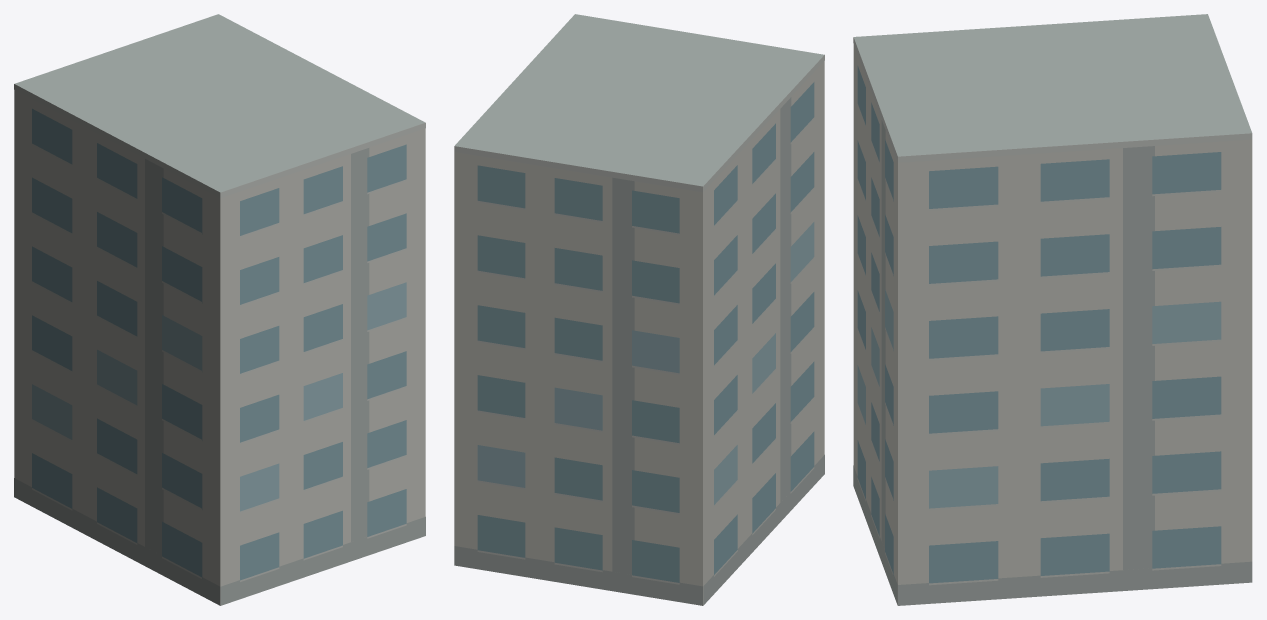
File: survey-upis-32576461.glb
3 renders of one model, left to right at view 1: azimuth 30°, elevation 25°; view 2: azimuth 150°, elevation 25°; view 3: azimuth 270°, elevation 25°, orthographic. The views are drawn at different scales.
Parts seen in each view (by area): view 1: survey-upis-32576461.tmp; view 2: survey-upis-32576461.tmp; view 3: survey-upis-32576461.tmp.
Boxes of the visible parts, x1=… form: survey-upis-32576461.tmp: x1=14, y1=14, x2=425, y2=605; survey-upis-32576461.tmp: x1=454, y1=14, x2=824, y2=605; survey-upis-32576461.tmp: x1=853, y1=14, x2=1252, y2=605.
Bounding box in the file's own units: 11.86 × 17.4 × 14.01.
